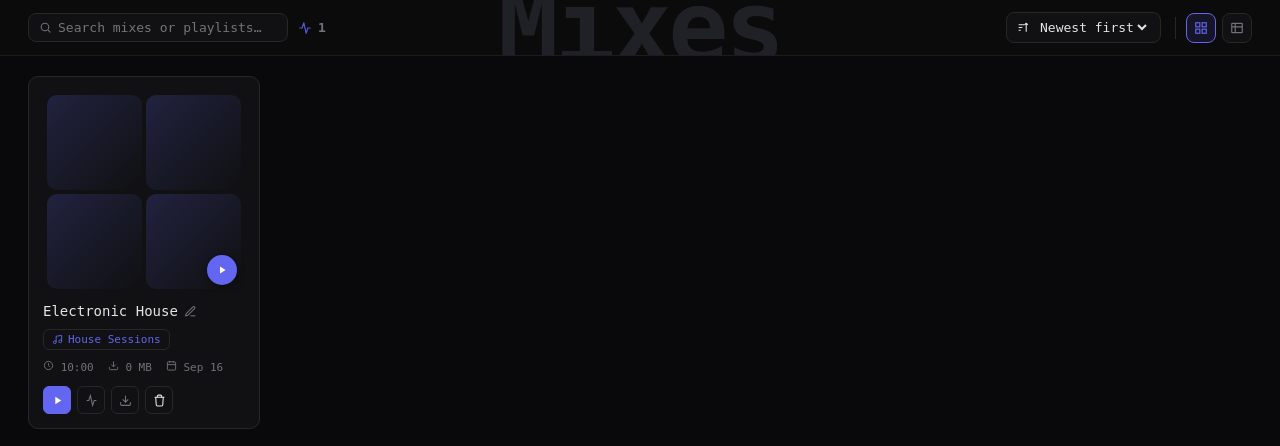
Test case: MixesView › uses the shared command bar for the Mixes list and the Mix Story header
Expected: the text "Electronic House" is shown, [43,303,178,319]
Expected: the field with placeholder "Search mixes or playlists…" is shown, [58,20,277,35]
Click the button named "View breakdown of Electronic House" at (91, 400), box [77,386,105,414]
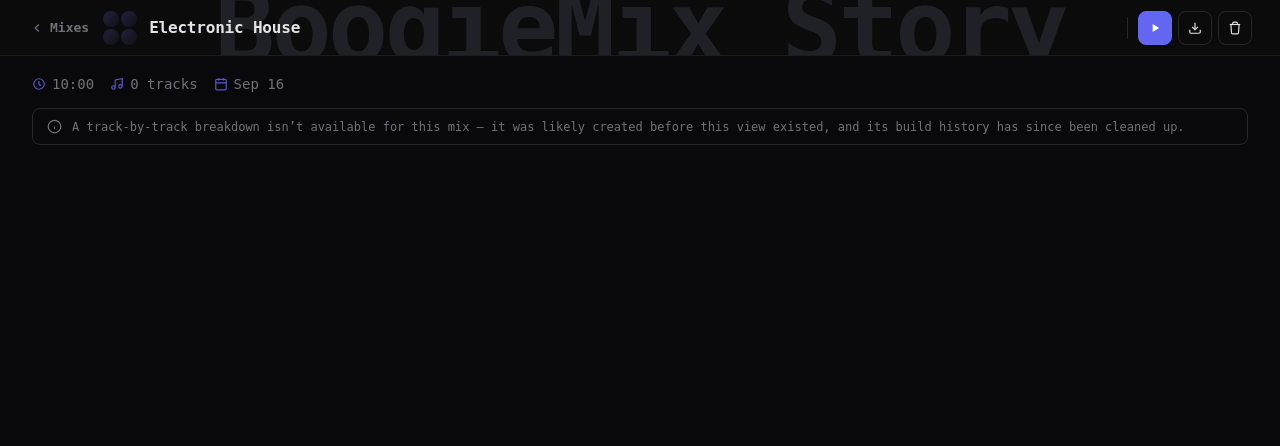
Expected: the element named "Electronic House artwork" is shown, [101,8,139,46]
Expected: the button named "Play Electronic House" is shown, [1138,10,1172,44]
Expected: the button named "Delete Electronic House" is shown, [1218,10,1252,44]
